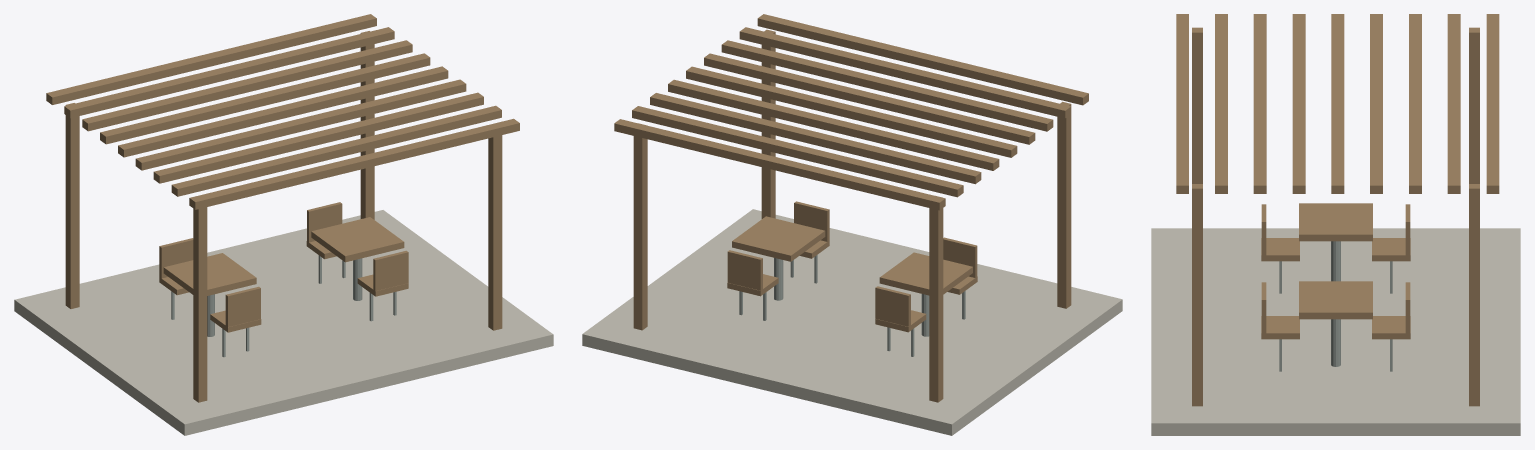
File: zoo-and-safari-park-builder-restaurant-terrace-7ed312ed__21523.glb
3 views of the same model, side by side, from view 1: azimuth 30°, elevation 25°; view 2: azimuth 150°, elevation 25°; view 3: azimuth 270°, elevation 25° (orthographic). The views are drawn at different scales.
Parts seen in each view (by area): view 1: restaurant-terrace; view 2: restaurant-terrace; view 3: restaurant-terrace.
Boxes of the visible parts, <box> form: restaurant-terrace: <box>14,14,553,435</box>; restaurant-terrace: <box>582,14,1122,435</box>; restaurant-terrace: <box>1151,14,1520,435</box>.
Bounding box in the file's own units: 5 × 2.85 × 4.
